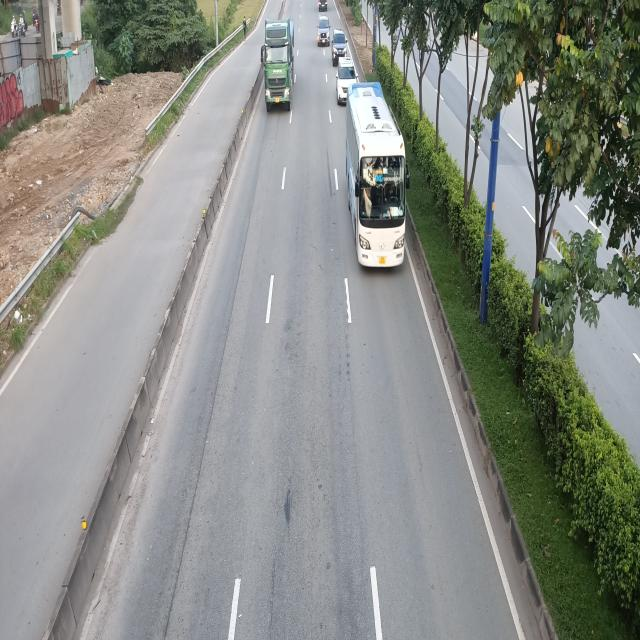car: (336, 58, 358, 104), (317, 16, 330, 47)
coach: (343, 86, 408, 274)
container: (260, 20, 298, 111)
